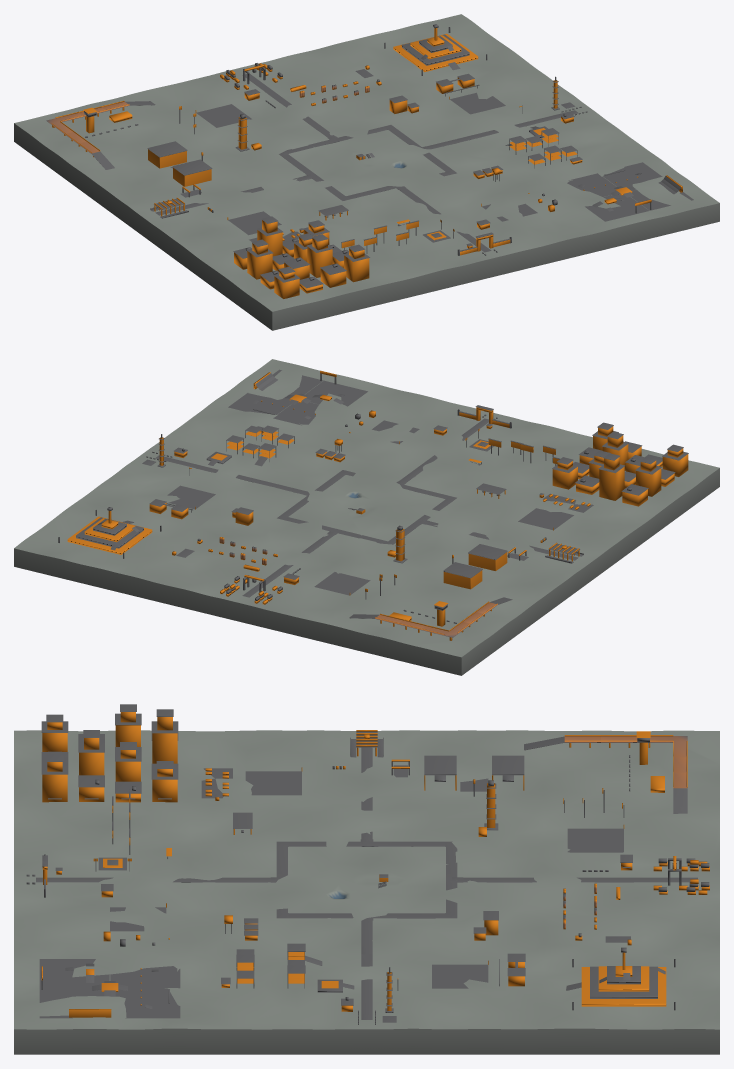
File: near.glb
3 views of the same model, one above another, from view 1: azimuth 30°, elevation 25°; view 2: azimuth 150°, elevation 25°; view 3: azimuth 270°, elevation 25° (orthographic). The views are drawn at different scales.
Visible parts, largest first — view 1: near-placeholder; view 2: near-placeholder; view 3: near-placeholder.
Part boxes in pixels (left/top/right/bottom): near-placeholder: left=14, top=14, right=719, bottom=330; near-placeholder: left=14, top=359, right=719, bottom=675; near-placeholder: left=14, top=704, right=719, bottom=1054.
Size of the model in its own units: 500 by 61.5 by 500.
